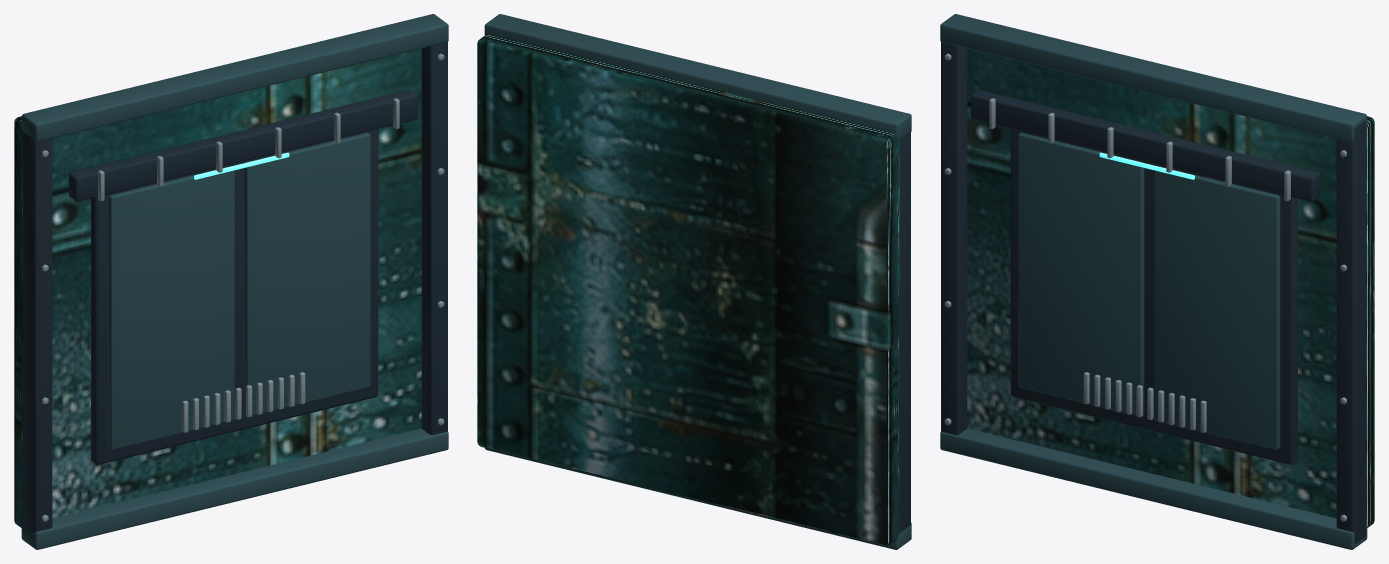
Rendered from bulkhead_panel.glb.
The picture shows the model from 3 angles, left to right: view 1: azimuth 30°, elevation 25°; view 2: azimuth 150°, elevation 25°; view 3: azimuth 330°, elevation 25°; orthographic projection.
Parts seen in each view (by area): view 1: Hull transverse frame, Pressure hull, Hull frame, Hex fastener; view 2: Pressure hull, Hull transverse frame, Hull frame; view 3: Hull transverse frame, Pressure hull, Hull frame, Hex fastener.
Part boxes in pixels (<box>): Hull transverse frame: <box>21,14,448,549</box>; Pressure hull: <box>14,48,421,527</box>; Hull frame: <box>23,42,447,532</box>; Hex fastener: <box>42,53,444,521</box>; Pressure hull: <box>477,34,899,545</box>; Hull transverse frame: <box>484,14,911,549</box>; Hull frame: <box>899,131,910,532</box>; Hull transverse frame: <box>940,14,1367,549</box>; Pressure hull: <box>967,48,1374,527</box>; Hull frame: <box>941,42,1365,543</box>; Hex fastener: <box>944,53,1346,521</box>.
Size of the model in its own units: 7 by 6.9 by 0.93.
5 materials, 1 textured.
